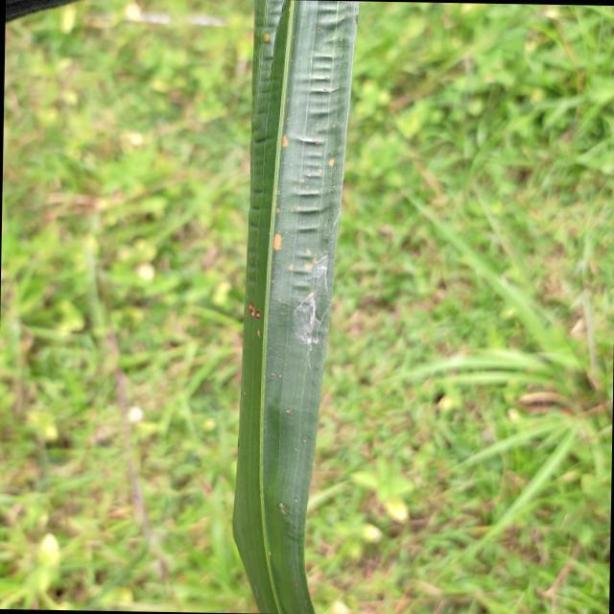Boron: (230, 0, 354, 614)
